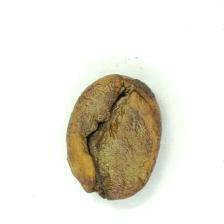NG: (79, 86, 152, 198)
